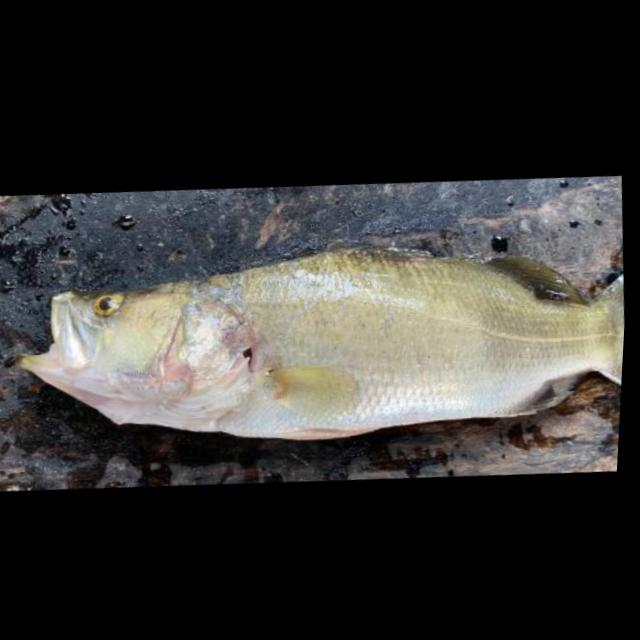Seabass: (4, 212, 629, 473)
